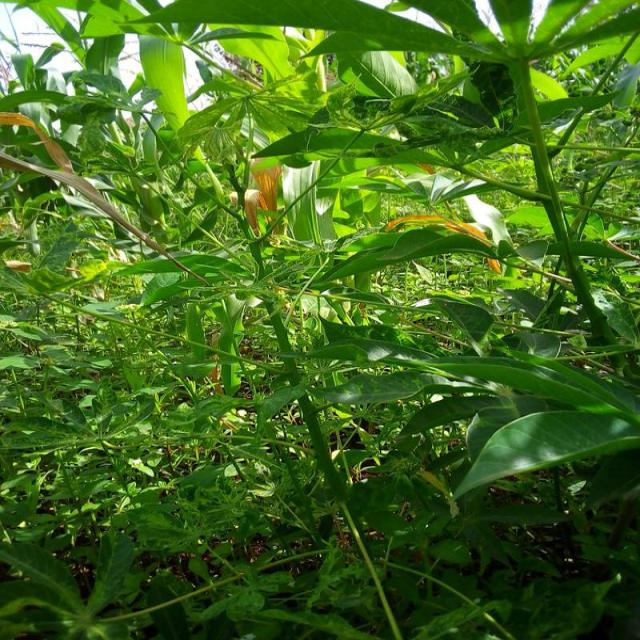cassava leaf: (452, 406, 640, 502)
